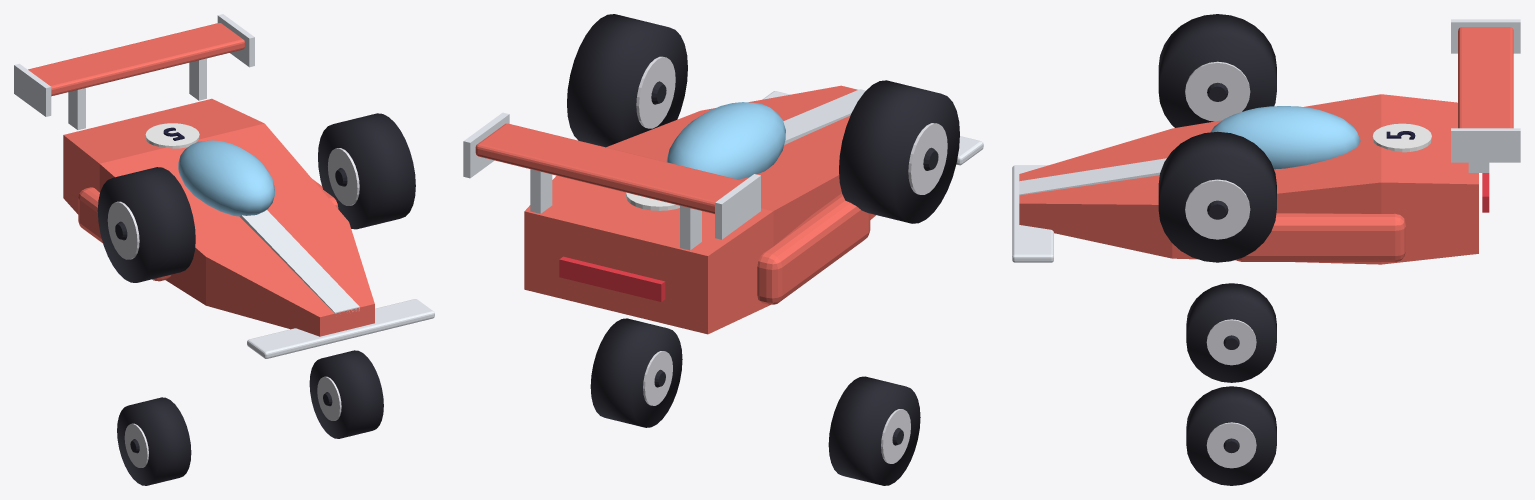
Rendered from Car_Dart.fbx.
The picture shows the model from 3 angles, left to right: view 1: azimuth 30°, elevation 25°; view 2: azimuth 150°, elevation 25°; view 3: azimuth 270°, elevation 25°; orthographic projection. The views are drawn at different scales.
Parts seen in each view (by area): view 1: Car_Dart, Wheel_RL, Wheel_RR, Wheel_FL, Wheel_FR; view 2: Car_Dart, Wheel_RL, Wheel_RR, Wheel_FR, Wheel_FL; view 3: Car_Dart, Wheel_RR, Wheel_RL, Wheel_FL, Wheel_FR.
Boxes of the visible parts, x1,y1,x2,y2 form: Car_Dart: [14, 14, 434, 358]; Wheel_RL: [97, 167, 195, 282]; Wheel_RR: [318, 113, 415, 229]; Wheel_FL: [117, 397, 191, 485]; Wheel_FR: [309, 350, 383, 438]; Car_Dart: [463, 85, 983, 334]; Wheel_RL: [839, 80, 959, 223]; Wheel_RR: [567, 14, 687, 147]; Wheel_FR: [590, 318, 682, 427]; Wheel_FL: [828, 376, 920, 485]; Car_Dart: [1012, 19, 1520, 264]; Wheel_RR: [1158, 131, 1276, 262]; Wheel_RL: [1158, 14, 1276, 127]; Wheel_FL: [1186, 283, 1276, 382]; Wheel_FR: [1186, 386, 1276, 485].
Bounding box in the file's own units: 1 × 1.11 × 1.46.
